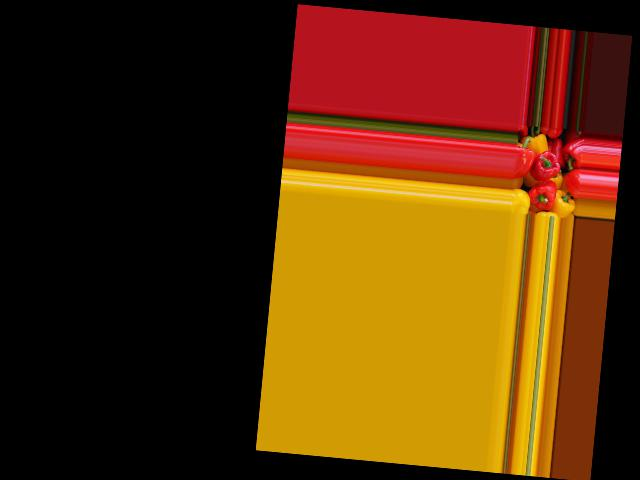bell_pepper: (549, 191, 574, 218)
